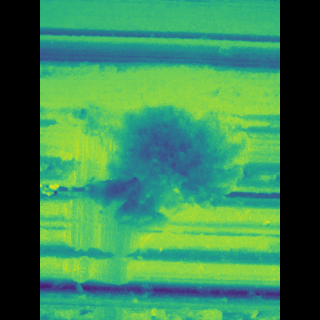Loch: (81, 84, 231, 292)
